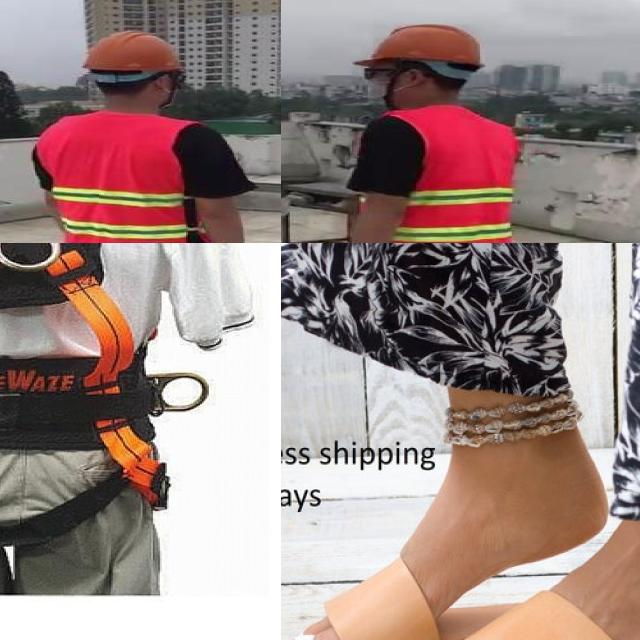Harness: (0, 243, 166, 504)
Sandals: (412, 493, 640, 640)
face_mask: (353, 61, 404, 104)
head_helmet: (350, 20, 484, 70), (75, 30, 180, 70)
person: (281, 6, 522, 243), (27, 24, 264, 243)
vest: (35, 113, 211, 243), (382, 107, 517, 243)
